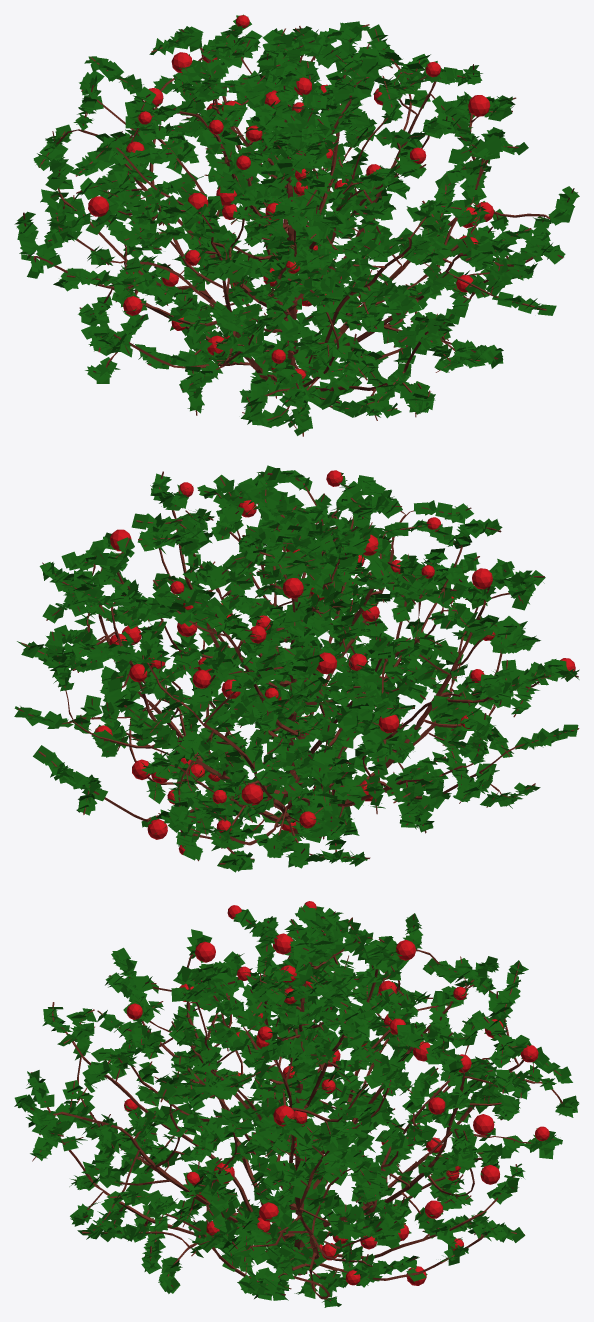
Rendered from bush_some_fruits.fbx.
3 views of the same model, one above another, from view 1: azimuth 30°, elevation 25°; view 2: azimuth 150°, elevation 25°; view 3: azimuth 270°, elevation 25° (orthographic). The views are drawn at different scales.
Visible parts, largest first — view 1: Leaves.004, Tree.004; view 2: Leaves.004, Tree.004; view 3: Leaves.004, Tree.004.
Boxes of the visible parts, left/top/right/bottom form: Leaves.004: left=14, top=14, right=579, bottom=435; Tree.004: left=23, top=24, right=574, bottom=436; Leaves.004: left=14, top=465, right=579, bottom=872; Tree.004: left=18, top=470, right=579, bottom=864; Leaves.004: left=14, top=904, right=579, bottom=1307; Tree.004: left=30, top=906, right=564, bottom=1304.
Size of the model in its own units: 269 by 181 by 268.
